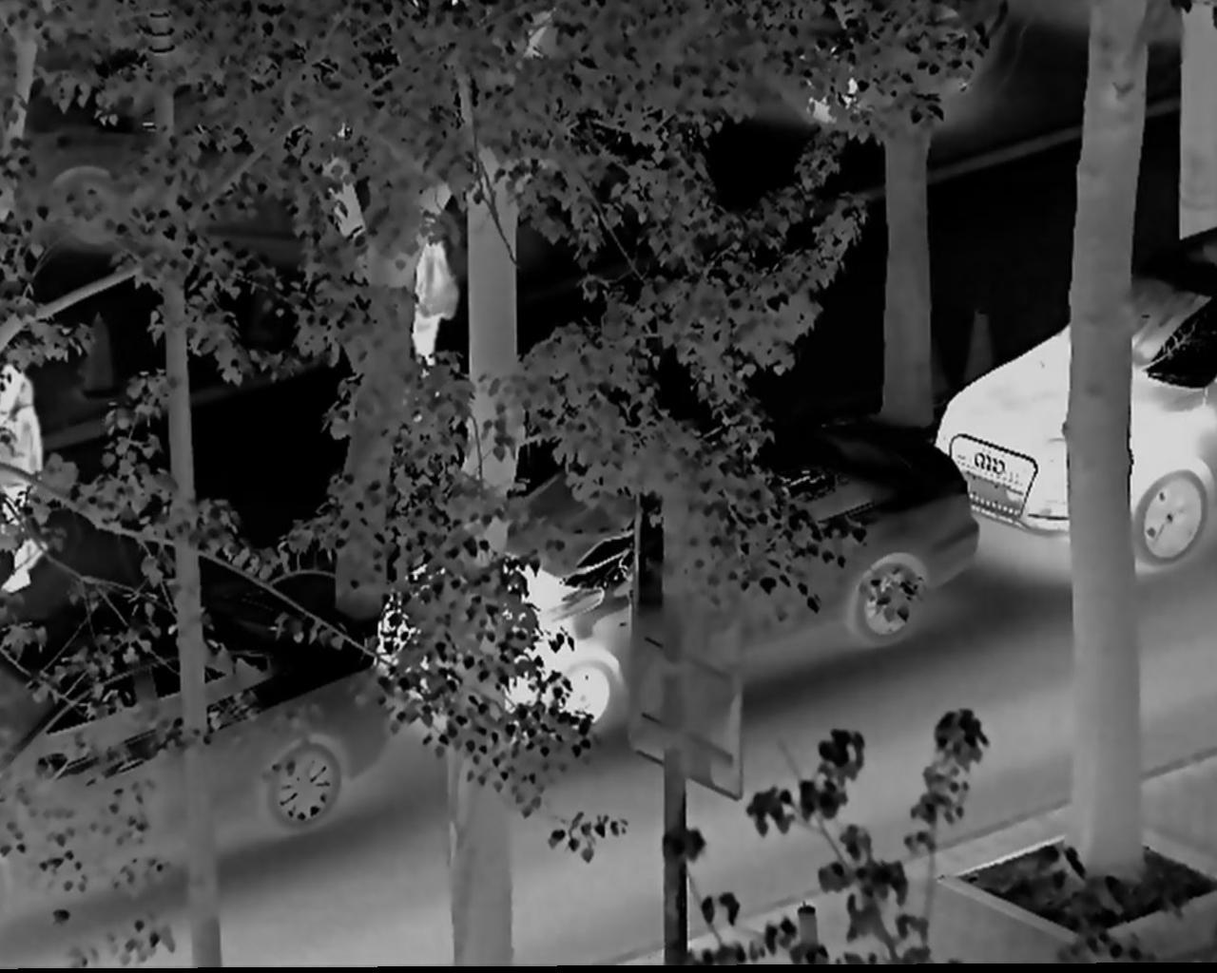person: (415, 242, 460, 363)
